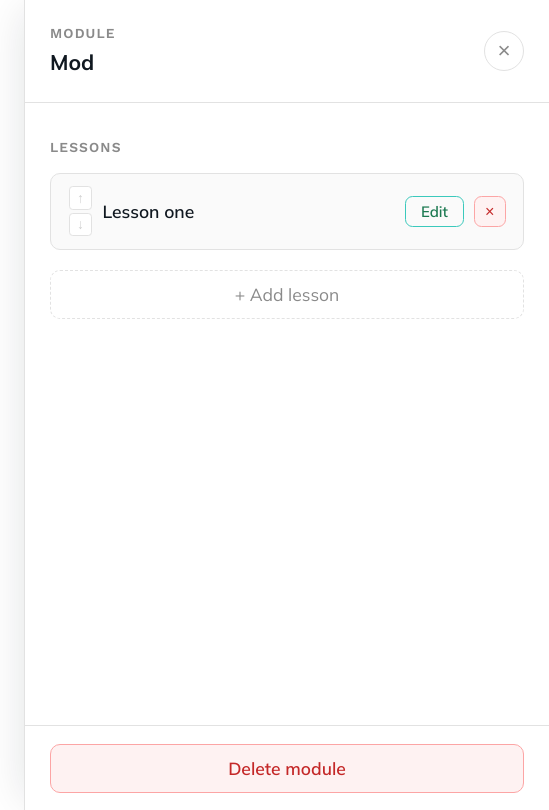
it: ModulePanel lesson delete confirmation › deletes once confirmed and removes the row
Click the button titled "Delete lesson" in the row of "Lesson one". click: click(490, 211)
box: [474,196,506,227]
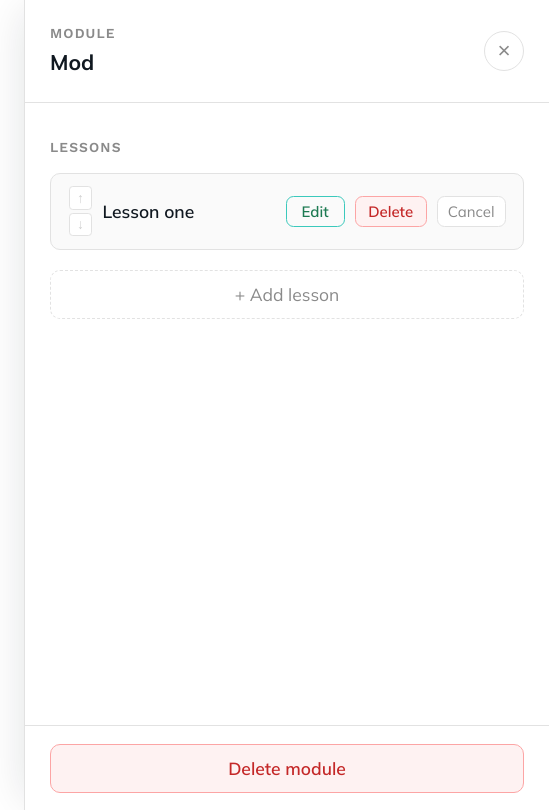
Click the button "Delete". click: click(391, 211)
box: [355,196,427,227]
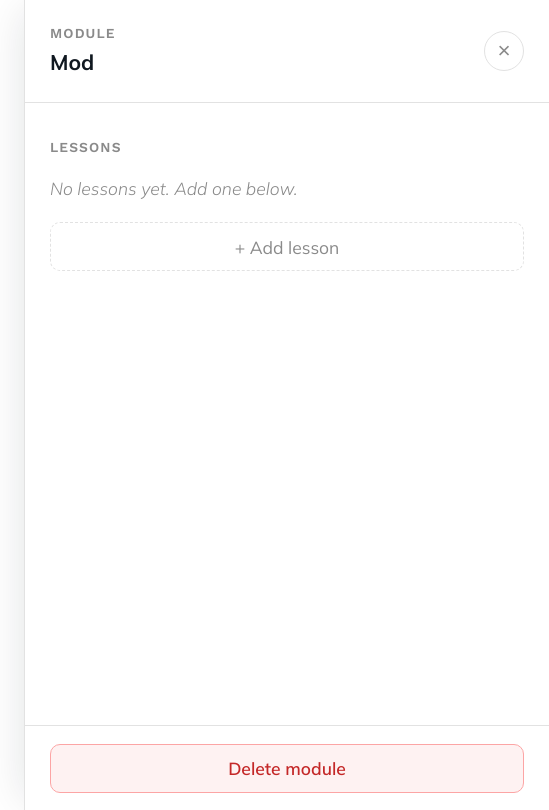
Expected: the text "Lesson one" is gone
